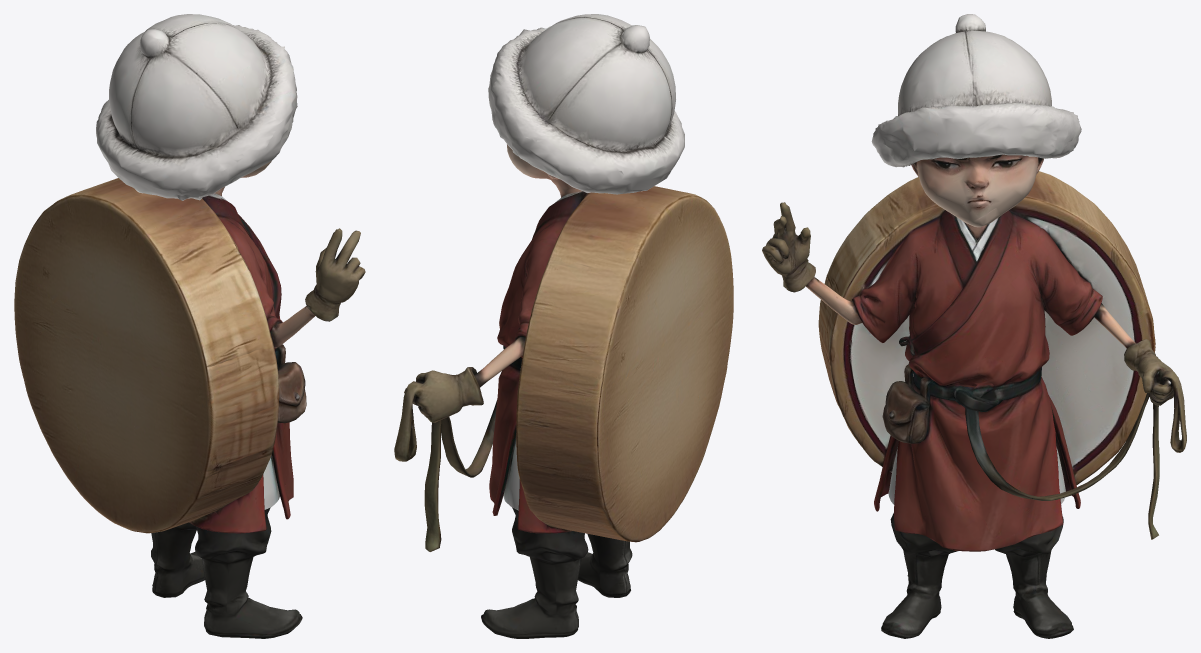
The model's file is p_b1p_wulan.glb.
The picture shows the model from 3 angles, left to right: view 1: azimuth 30°, elevation 25°; view 2: azimuth 150°, elevation 25°; view 3: azimuth 270°, elevation 25°; orthographic projection. The views are drawn at different scales.
Visible parts, largest first — view 1: tripo_node_7854769e-2fb2-46d9-832e-21aa7306d0c3; view 2: tripo_node_7854769e-2fb2-46d9-832e-21aa7306d0c3; view 3: tripo_node_7854769e-2fb2-46d9-832e-21aa7306d0c3.
Boxes of the visible parts, x1=… form: tripo_node_7854769e-2fb2-46d9-832e-21aa7306d0c3: x1=14, y1=14, x2=365, y2=638; tripo_node_7854769e-2fb2-46d9-832e-21aa7306d0c3: x1=394, y1=14, x2=733, y2=638; tripo_node_7854769e-2fb2-46d9-832e-21aa7306d0c3: x1=762, y1=14, x2=1186, y2=638.
Bounding box in the file's own units: 0.3166 × 0.9798 × 0.6523.
1 material, 1 textured.
